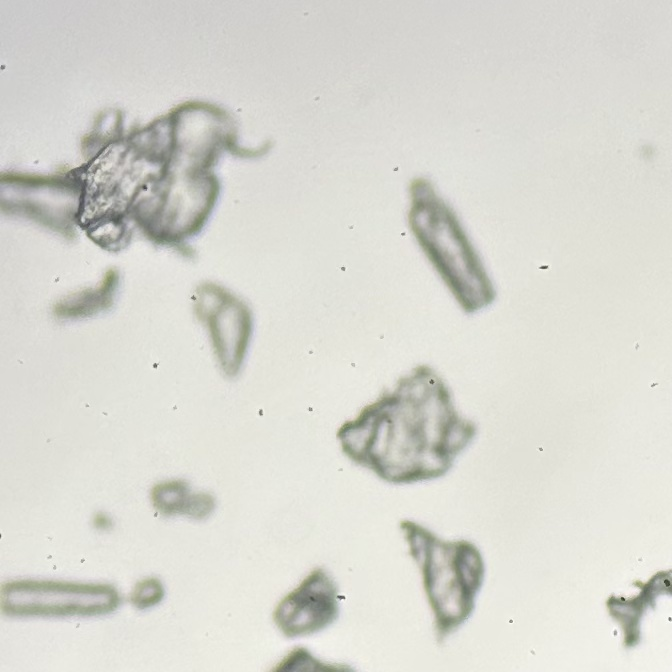microplastic: (64, 98, 275, 257), (335, 361, 477, 485), (405, 175, 497, 317), (397, 516, 486, 641), (1, 166, 85, 247), (193, 283, 255, 382), (604, 565, 672, 653), (271, 569, 344, 640), (1, 585, 120, 619), (54, 266, 120, 323), (264, 646, 358, 672), (129, 578, 169, 611), (156, 480, 188, 516), (187, 490, 215, 522), (92, 515, 115, 528)
